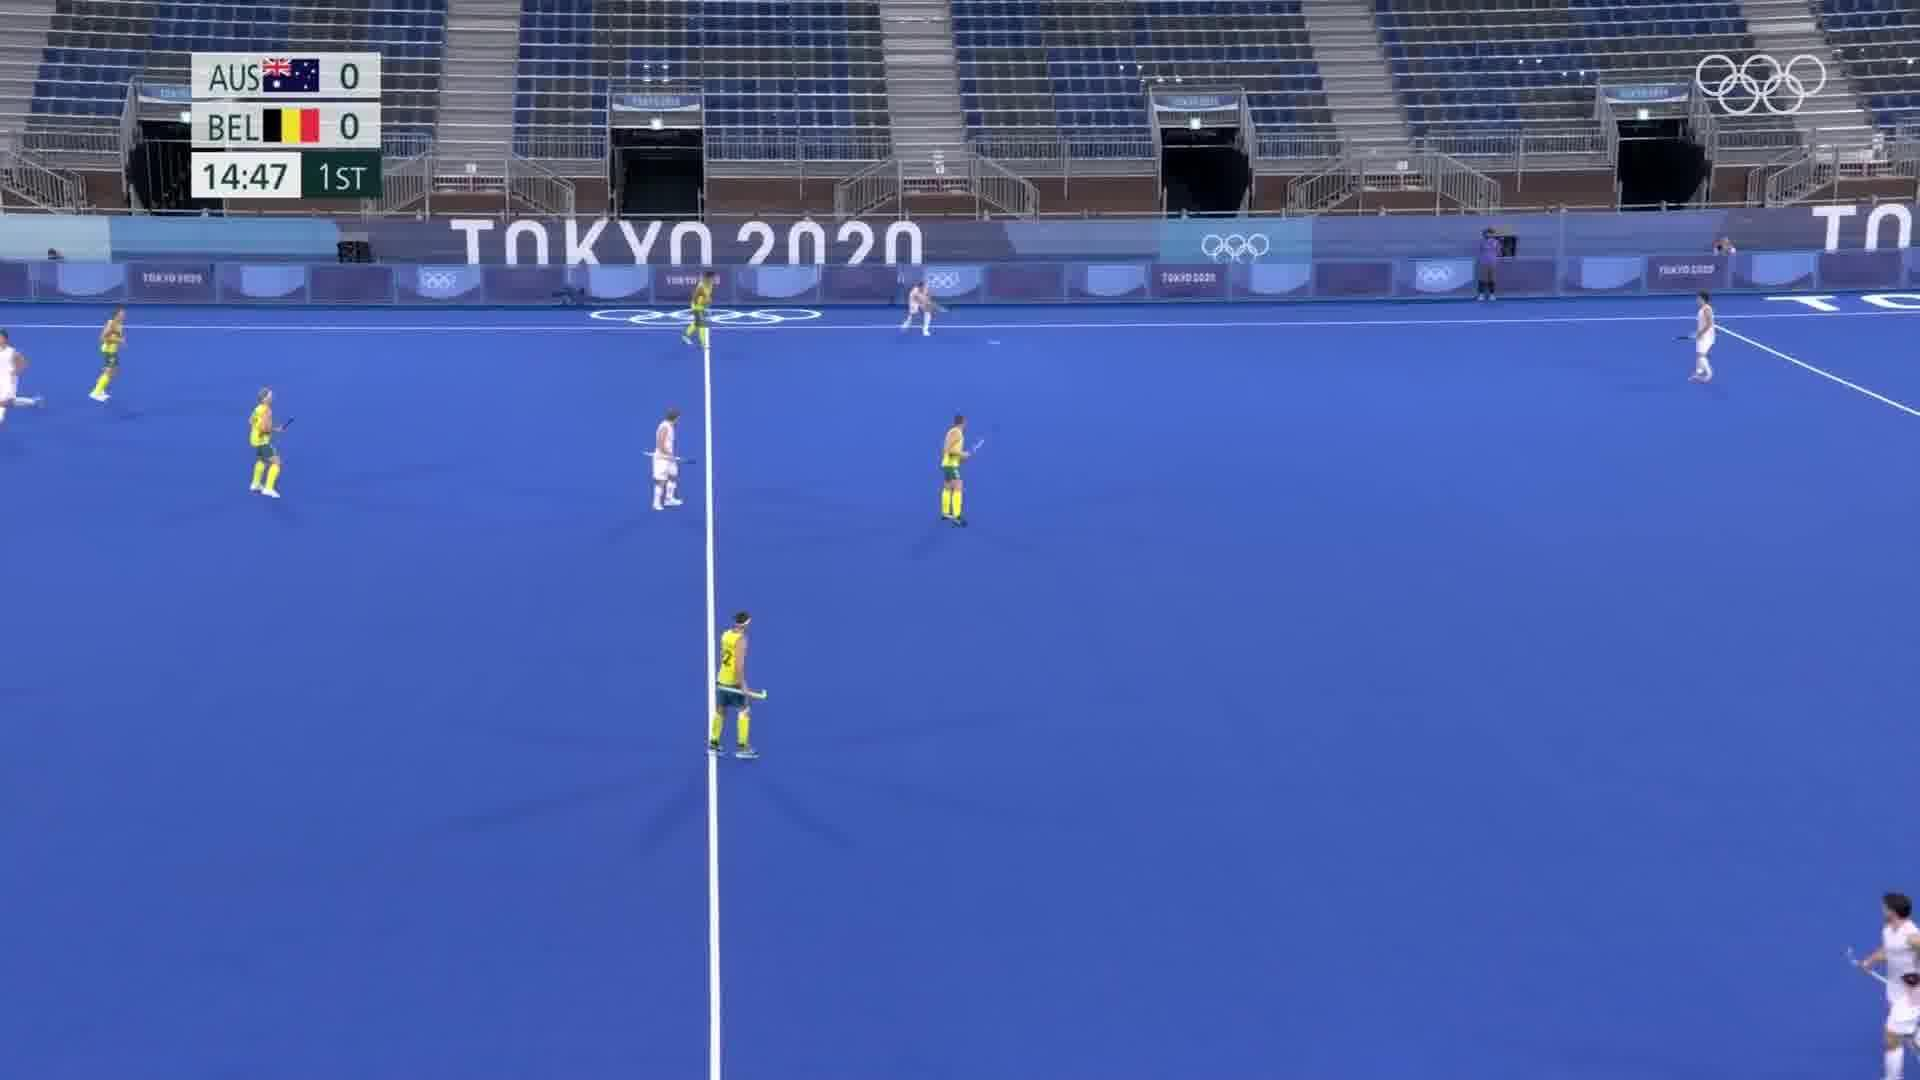ball: (980, 328, 1013, 356)
